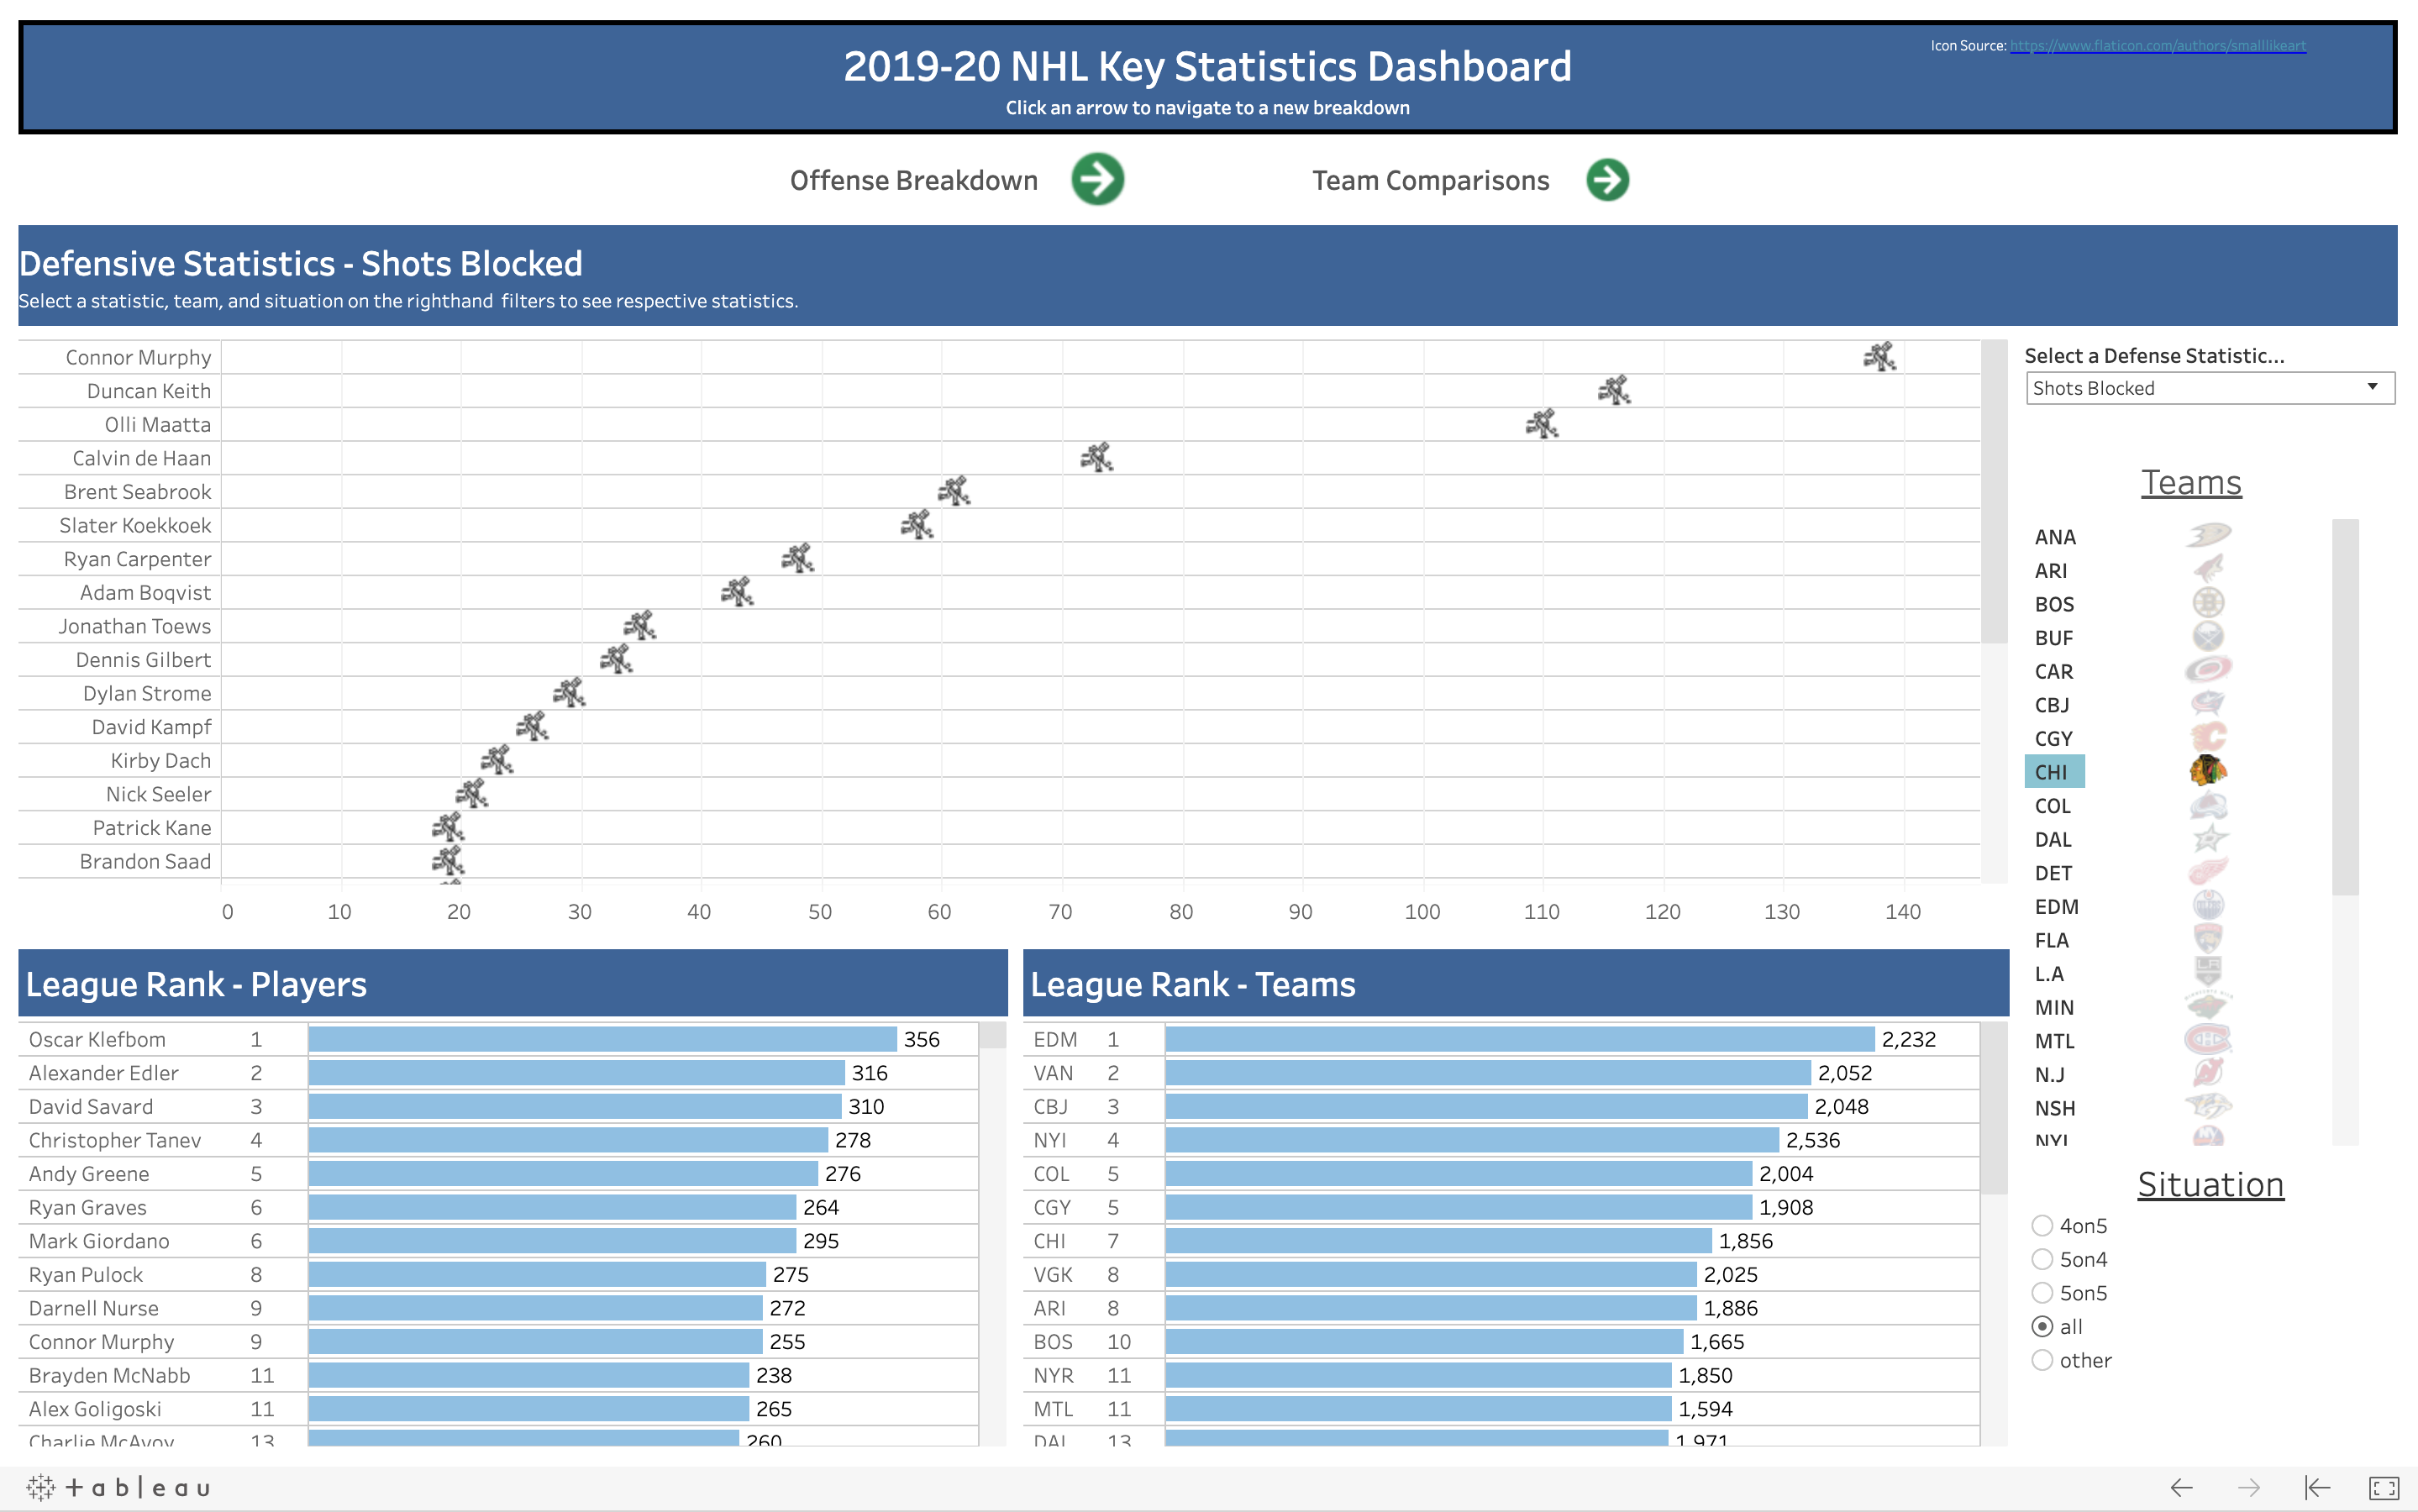

The page's visual inventory and layout, read from the dashboard file:
{"tool":"tableau","page":{"name":"Defensive Dash","canvas":[1000,1000],"units":"permille","ordinal":0},"visuals":[{"type":"worksheet","box":[0,0,1000,1000]},{"type":"worksheet","box":[798.4,8.7,192.7,42.1]},{"type":"worksheet","param":"horz","box":[6.5,9.9,987,980.2]},{"type":"worksheet","box":[6.5,9.9,987,980.2]},{"type":"worksheet","box":[6.5,9.9,987,87.4]},{"type":"worksheet","param":"vert","box":[6.5,97.3,313.8,52.3]},{"type":"worksheet","title":"Offense Button","mark":"Shape","rows":["Calculation_3551088307137937410"],"box":[320.3,97.3,208.5,52.3]},{"type":"worksheet","title":"Team Comparison Button","mark":"Shape","rows":["Calculation_3551088307140505604"],"box":[528.8,97.3,217.8,52.3]},{"type":"worksheet","param":"vert","box":[746.6,97.3,247,52.3]},{"type":"worksheet","box":[6.5,149.5,987,77.5]},{"type":"worksheet","title":"Defensive Stats","mark":"Shape","rows":["name"],"cols":["Calculation_4433723466024849408"],"box":[6.5,227.1,827.3,415.4]},{"type":"worksheet","param":"horz","box":[833.8,227.1,159.7,763]},{"type":"worksheet","box":[833.8,227.1,159.7,763]},{"type":"worksheet","param":"[Parameters].[Parameter 1]","box":[833.8,227.1,159.7,73.3]},{"type":"worksheet","title":"Team Logos","mark":"Shape","rows":["team"],"box":[833.8,300.4,159.7,484.6]},{"type":"worksheet","title":"D-Stat Player Ranking ","mark":"Automatic","rows":["name","Calculation_4433723466024849408"],"cols":["Calculation_4433723466024849408"],"box":[6.5,642.4,414.8,347.7]},{"type":"worksheet","title":"D-Stat Team Ranking","mark":"Automatic","rows":["team","Calculation_4433723466024849408"],"cols":["Calculation_4433723466024849408"],"box":[421.3,642.4,412.5,347.7]},{"type":"worksheet","title":"Defensive Stats","mark":"Shape","rows":["name"],"cols":["Calculation_4433723466024849408"],"param":"[federated.19jiyrt0eqtg8y12unap60zdj6nu].[none:situation:nk]","box":[833.8,785,159.7,205.1]}]}

Visuals, with their boxes on the dashboard's canvas, which has no fixed pixel size, in thousandths of its width and height (x1, y1, x2, y2). These are canvas units, not pixel positions in the 2418x1512 screenshot, which may show the page scaled, cropped or inside an application window:
worksheet: x1=0 y1=0 x2=1000 y2=1000
worksheet: x1=798 y1=9 x2=991 y2=51
worksheet: x1=6 y1=10 x2=994 y2=990
worksheet: x1=6 y1=10 x2=994 y2=990
worksheet: x1=6 y1=10 x2=994 y2=97
worksheet: x1=6 y1=97 x2=320 y2=150
"Offense Button" worksheet (Shape marks): x1=320 y1=97 x2=529 y2=150
"Team Comparison Button" worksheet (Shape marks): x1=529 y1=97 x2=747 y2=150
worksheet: x1=747 y1=97 x2=994 y2=150
worksheet: x1=6 y1=150 x2=994 y2=227
"Defensive Stats" worksheet (Shape marks): x1=6 y1=227 x2=834 y2=642
worksheet: x1=834 y1=227 x2=994 y2=990
worksheet: x1=834 y1=227 x2=994 y2=990
worksheet: x1=834 y1=227 x2=994 y2=300
"Team Logos" worksheet (Shape marks): x1=834 y1=300 x2=994 y2=785
"D-Stat Player Ranking " worksheet: x1=6 y1=642 x2=421 y2=990
"D-Stat Team Ranking" worksheet: x1=421 y1=642 x2=834 y2=990
"Defensive Stats" worksheet (Shape marks): x1=834 y1=785 x2=994 y2=990
